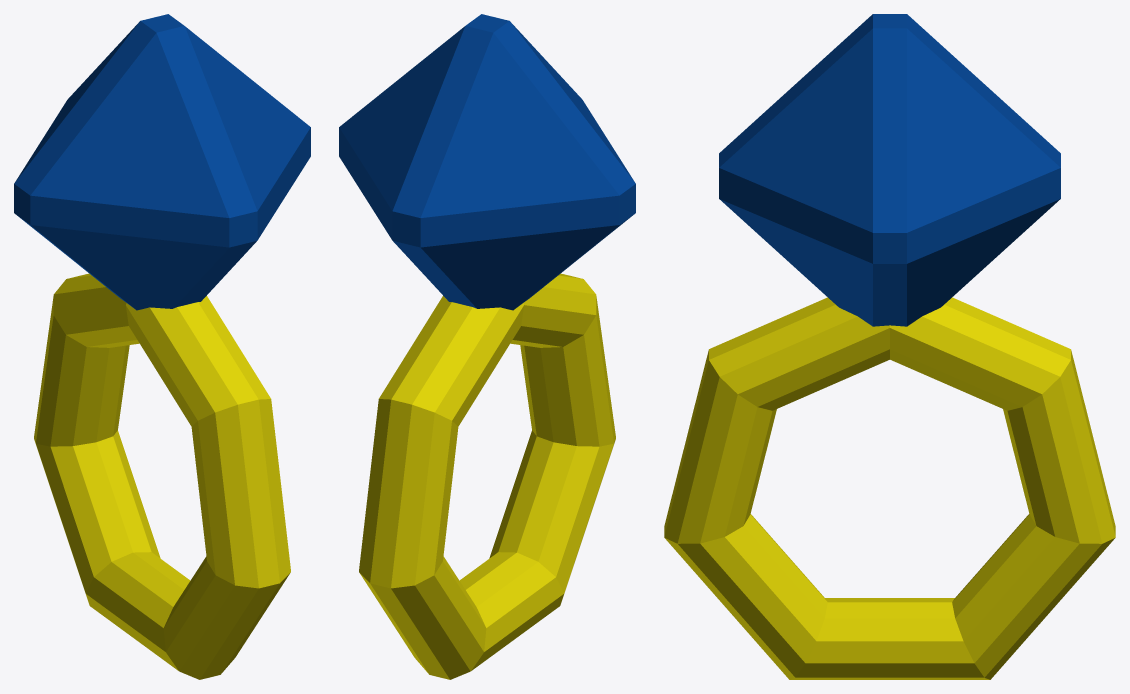
File: ring_blue.fbx
3 renders of one model, left to right at view 1: azimuth 30°, elevation 25°; view 2: azimuth 150°, elevation 25°; view 3: azimuth 270°, elevation 25°, orthographic. The views are drawn at different scales.
Parts seen in each view (by area): view 1: ring_blue; view 2: ring_blue; view 3: ring_blue.
Boxes of the visible parts, x1,y1,x2,y2 form: ring_blue: (14, 14, 310, 679); ring_blue: (339, 14, 635, 679); ring_blue: (664, 14, 1115, 679).
Size of the model in its own units: 0.7126 by 1.5 by 0.9414.
